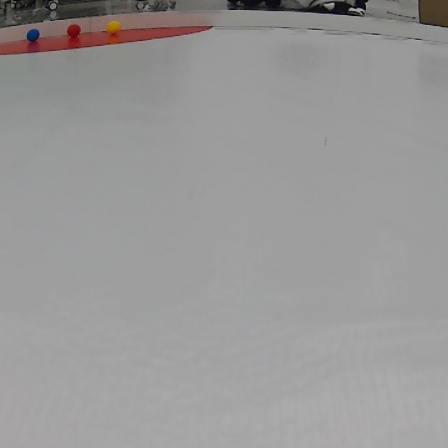blue: (24, 27, 42, 41)
red: (65, 21, 85, 37)
red_base: (0, 22, 212, 55)
yellow: (105, 20, 121, 34)
